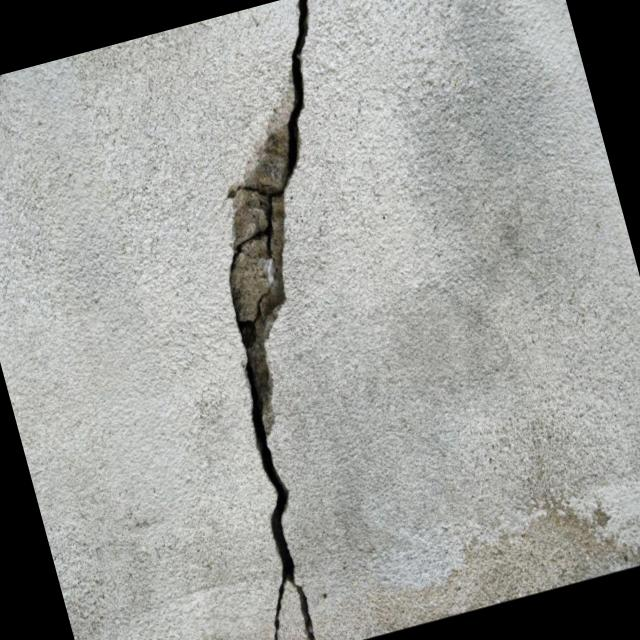crack: (227, 0, 318, 640)
